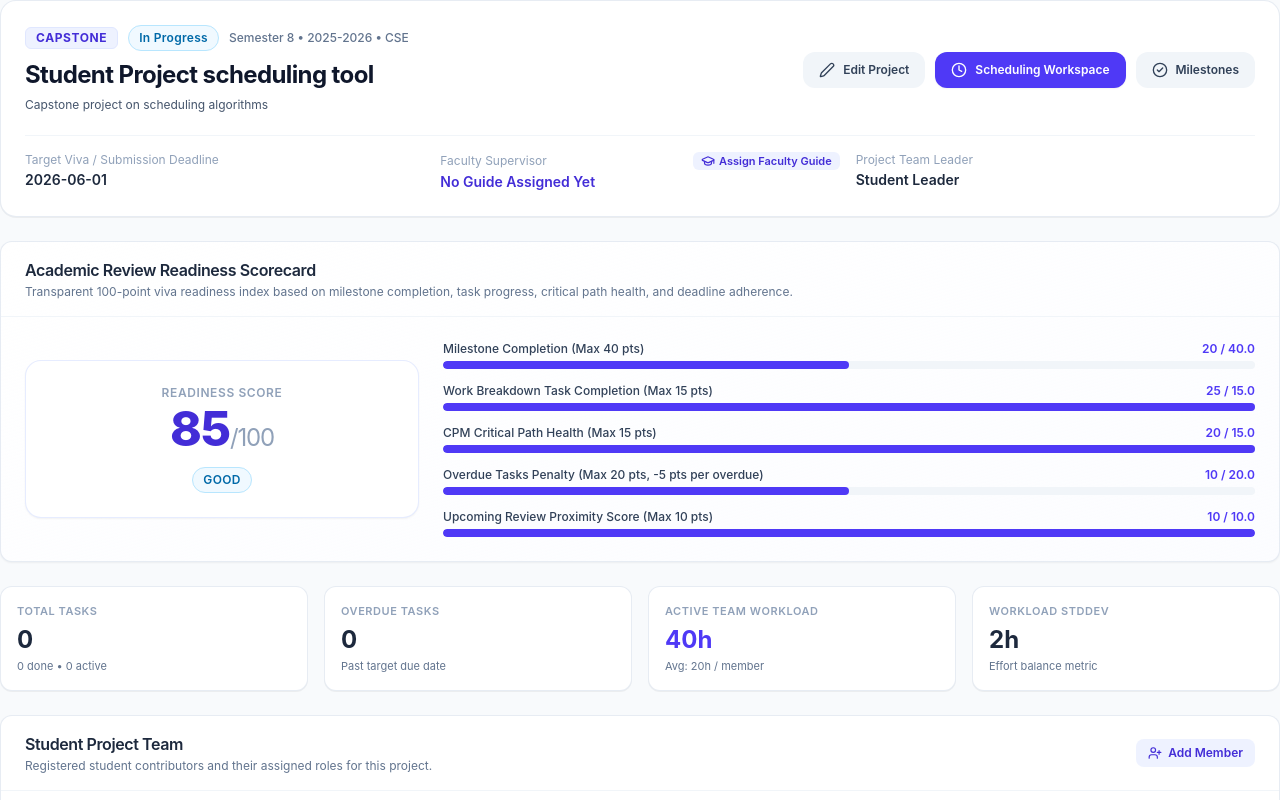
Test: Faculty Guide Assignment Feature › opens modal, lists faculty members, and allows owner to select and assign Janardhan
The width and height of the screenshot is (1280, 800).
Expected: the heading "Student Project scheduling tool" is shown, [25,59,409,91]
Click "Assign Faculty Guide"
What coordinates should you click on to do the following:
click the button with test id "assign-guide-btn"
I would click on:
 (766, 161)
Its box is [693,152,840,170].
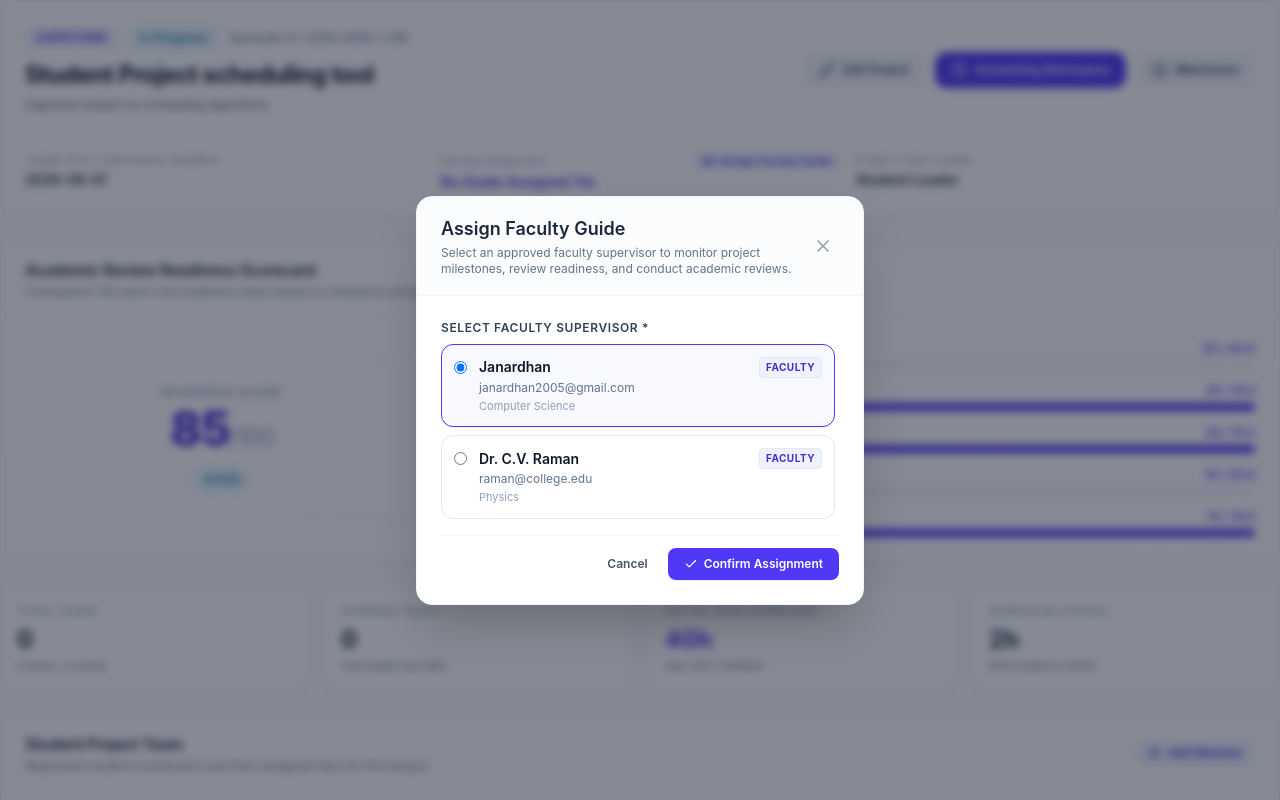
Expected: the text "Janardhan" is shown, [479,357,551,377]
Expected: the text "janardhan2005@gmail.com" is shown, [479,380,635,394]
Expected: the text "Dr. C.V. Raman" is shown, [479,448,579,468]
Click confirm assignment
What coordinates should you click on to do the following:
click the button with test id "confirm-assign-guide-btn"
I would click on:
 (753, 564)
Its box is [668,548,839,580].
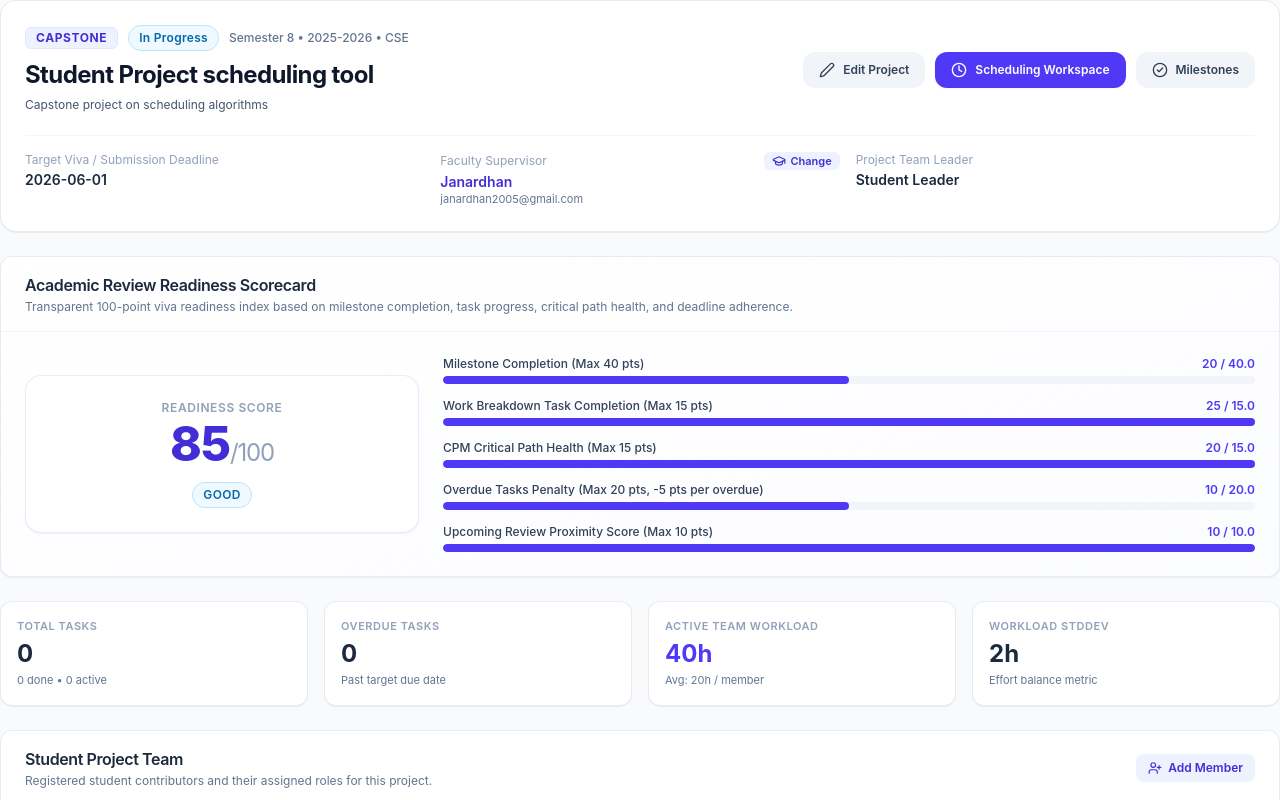
Expected: the text "janardhan2005@gmail.com" is shown, [440,192,583,206]
Expected: the text with test id "faculty-guide-name" reads "Janardhan", [440,173,512,190]
